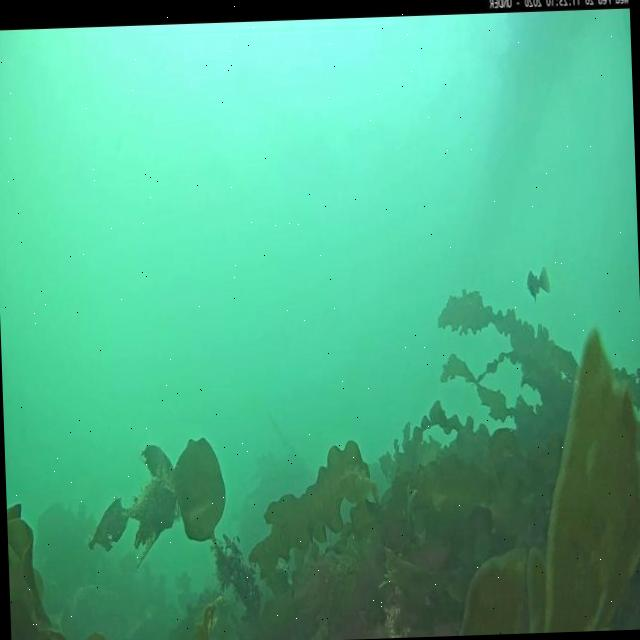fish: (527, 262, 551, 295)
